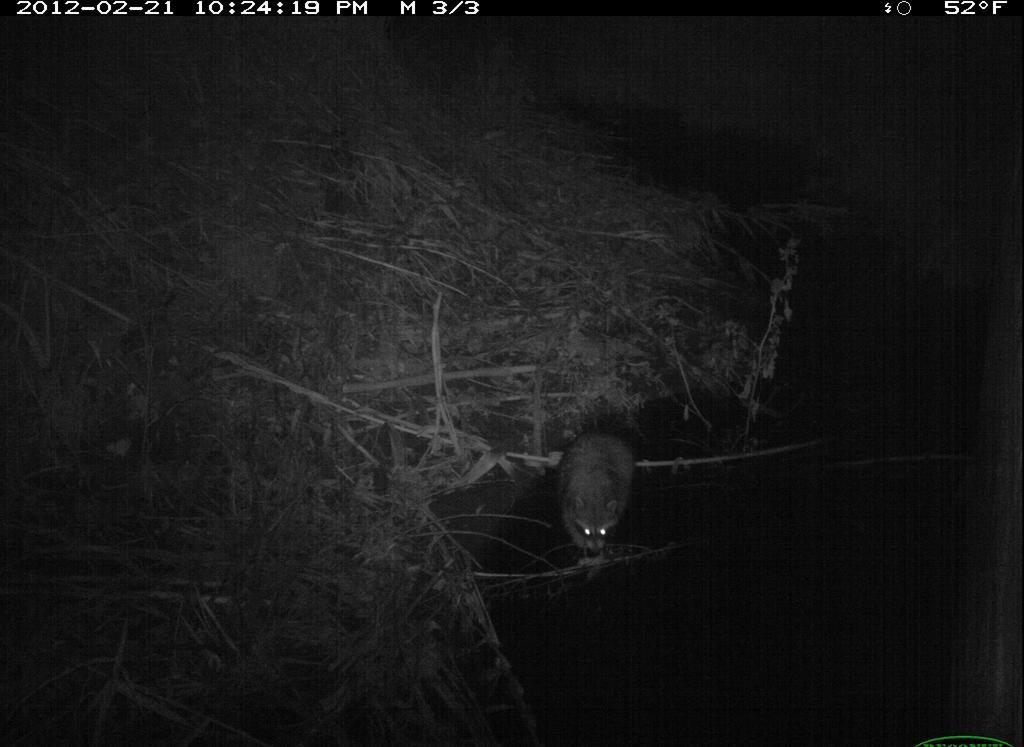raccoon: (542, 427, 647, 569)
